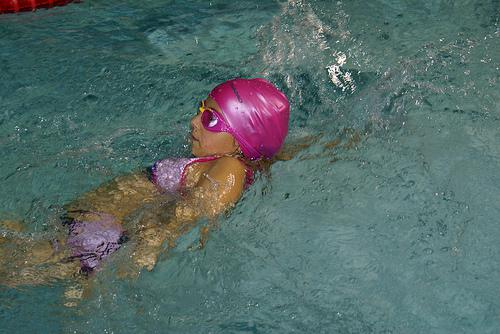swimmer: (4, 76, 300, 297)
